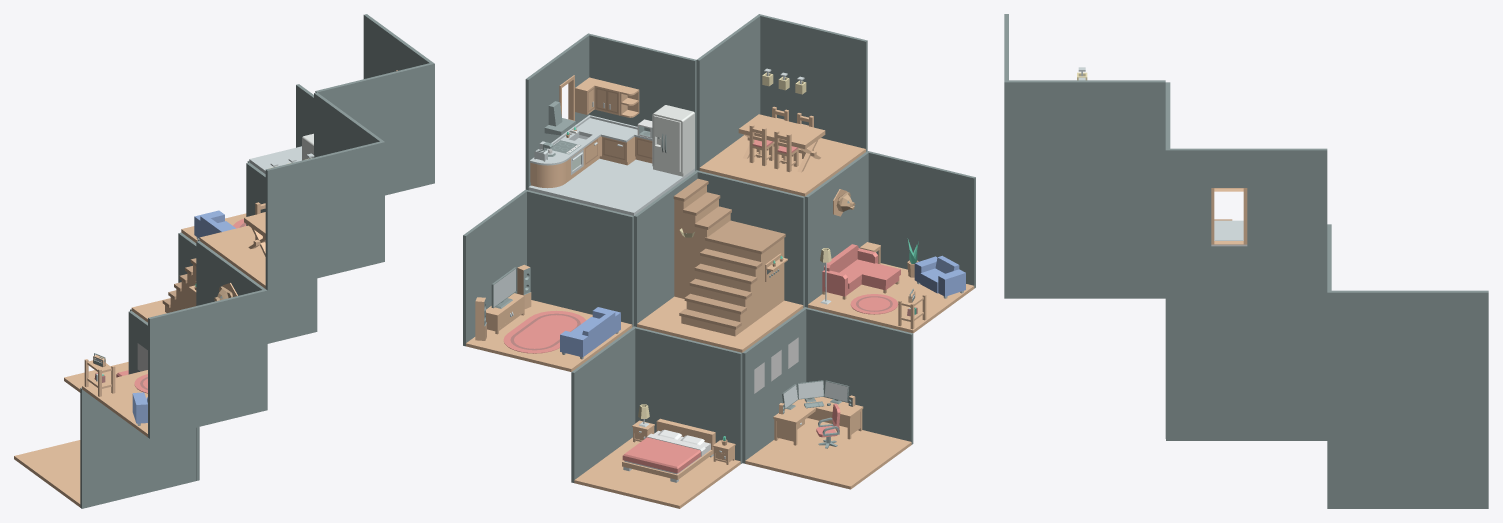
Rendered from rooms.fbx.
The picture shows the model from 3 angles, left to right: view 1: azimuth 30°, elevation 25°; view 2: azimuth 150°, elevation 25°; view 3: azimuth 270°, elevation 25°; orthographic projection. The views are drawn at different scales.
Visible parts, largest first — view 1: wall1 (×4), wall3, wall (×6), floor (×4), wall2, floor1, furniture:stairsCorner, furniture:loungeDesignSofa, bookcaseOpenLow, tableCross, loungeDesignChair; view 2: wall1 (×6), wall (×6), floor (×6), furniture:stairsCorner, wall3, wall2, floor1, loungeSofaLong, rugRounded, deskCorner:deskCorner, cover, tableCross (+18 smaller); view 3: wall (×6), wall2, wallWindow.
Boxes of the visible parts, x1,y1,x2,y2 form: wall1 (×4): (80, 63, 431, 508); wall3: (265, 141, 381, 290); wall (×6): (128, 14, 434, 480); floor (×4): (14, 146, 301, 507); wall2: (314, 92, 384, 262); floor1: (199, 225, 265, 288); furniture:stairsCorner: (162, 258, 196, 312); furniture:loungeDesignSofa: (194, 210, 235, 239); bookcaseOpenLow: (84, 359, 115, 396); tableCross: (244, 212, 265, 256); loungeDesignChair: (132, 392, 147, 425); wall1 (×6): (527, 34, 975, 463); wall (×6): (463, 33, 869, 482); floor (×6): (466, 158, 974, 508); furniture:stairsCorner: (673, 178, 785, 336); wall3: (760, 14, 867, 151); wall2: (696, 14, 761, 170); floor1: (699, 135, 865, 196); loungeSofaLong: (822, 244, 900, 299); rugRounded: (503, 310, 586, 353); deskCorner:deskCorner: (773, 397, 863, 445); cover: (622, 433, 705, 473); tableCross: (738, 114, 825, 172); wall (×6): (1004, 148, 1488, 508); wall2: (1004, 80, 1165, 224); wallWindow: (1211, 188, 1247, 244).
Size of the model in its own units: 55.9 by 54 by 55.5.
